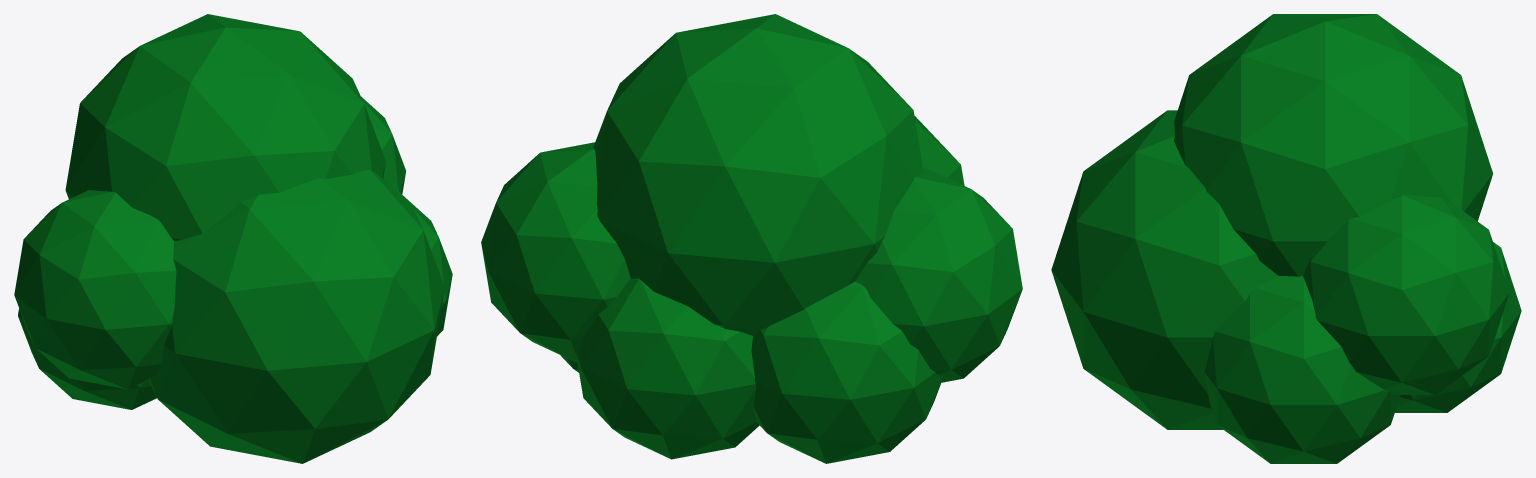
The model's file is bush.fbx.
3 renders of one model, left to right at view 1: azimuth 30°, elevation 25°; view 2: azimuth 150°, elevation 25°; view 3: azimuth 270°, elevation 25°, orthographic. The views are drawn at different scales.
Visible parts, largest first — view 1: Icosphere.006; view 2: Icosphere.006; view 3: Icosphere.006.
Boxes of the visible parts, x1=… form: Icosphere.006: x1=14, y1=14, x2=452, y2=463; Icosphere.006: x1=481, y1=14, x2=1022, y2=463; Icosphere.006: x1=1051, y1=14, x2=1521, y2=463.
Size of the model in its own units: 292 by 261 by 280.
